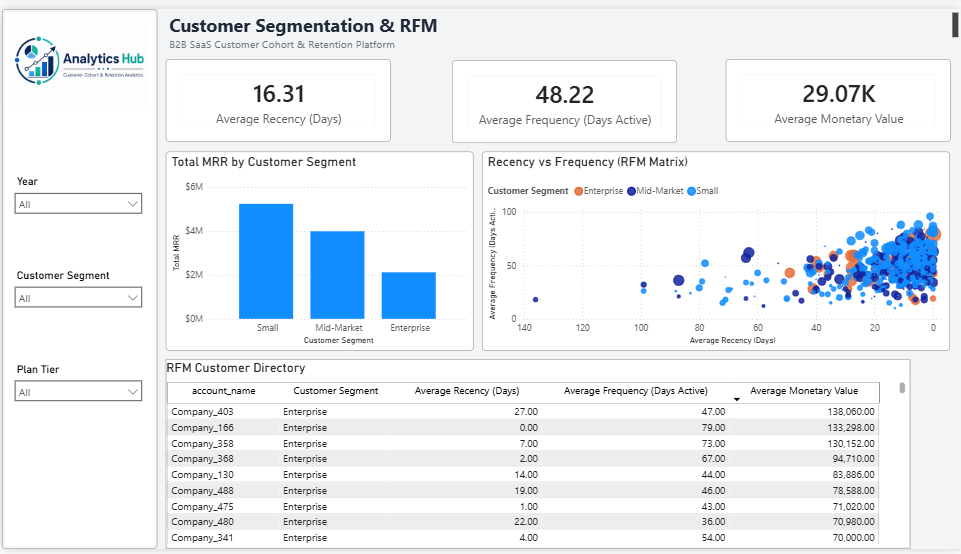

What the dashboard file says about the page in this screenshot:
{"tool":"powerbi","page":{"name":"06.Customer Segmentation & RFM","canvas":[1280,720],"ordinal":5},"visuals":[{"type":"shape","title":"Analytics Hub","box":[0,0,207.1,720],"z":0},{"type":"slicer","fields":{"Values":["Dim_Calendar.Year"]},"box":[7.1,217.1,190,80],"z":1000},{"type":"slicer","fields":{"Values":["Dim_Account.Customer Segment"]},"box":[7.1,342.1,190,80],"z":2000},{"type":"image","box":[2.9,10,200,125.7],"z":3000},{"type":"slicer","fields":{"Values":["Dim_Account.plan_tier"]},"box":[7.1,467.1,190,80],"z":4000},{"type":"textbox","box":[218.6,0,1061.4,57.1],"z":5000},{"type":"cardVisual","fields":{"Data":["Fact_FeatureUsage.Average Frequency (Days Active)"]},"box":[600,68.6,300,110],"z":6000},{"type":"cardVisual","fields":{"Data":["Fact_FeatureUsage.Average Recency (Days)"]},"box":[218.6,67.1,300,110],"z":7000},{"type":"cardVisual","fields":{"Data":["Fact_FeatureUsage.Average Monetary Value"]},"box":[964.3,67.1,300,110],"z":8000},{"type":"scatterChart","title":"Recency vs Frequency (RFM Matrix)","fields":{"Category":["Dim_Account.account_name"],"X":["Fact_FeatureUsage.Average Recency (Days)"],"Y":["Fact_FeatureUsage.Average Frequency (Days Active)"],"Size":["Fact_FeatureUsage.Average Monetary Value"],"Series":["Dim_Account.Customer Segment"]},"box":[640,190,624.3,265.7],"z":9000},{"type":"clusteredColumnChart","fields":{"Category":["Dim_Account.Customer Segment"],"Y":["Fact_Subscriptions.Total MRR"]},"box":[218.6,190,410,265.7],"z":10000},{"type":"tableEx","title":"RFM Customer Directory","fields":{"Values":["Dim_Account.account_name","Dim_Account.Customer Segment","Fact_FeatureUsage.Average Recency (Days)","Fact_FeatureUsage.Average Frequency (Days Active)","Fact_FeatureUsage.Average Monetary Value"]},"box":[218.6,467.1,992.9,252.9],"z":11000}]}

Visuals, with their boxes in screenshot pixels (x1, y1, x2, y2), scaled from the page's 1280x720 canvas onto the 961x554 screenshot:
"Analytics Hub" shape: region(0, 0, 155, 553)
slicer - Dim_Calendar.Year: region(5, 167, 148, 229)
slicer - Dim_Account.Customer Segment: region(5, 263, 148, 325)
image: region(2, 8, 152, 104)
slicer - Dim_Account.plan_tier: region(5, 359, 148, 421)
textbox: region(164, 0, 960, 44)
cardVisual - Fact_FeatureUsage.Average Frequency (Days Active): region(450, 53, 676, 137)
cardVisual - Fact_FeatureUsage.Average Recency (Days): region(164, 52, 389, 136)
cardVisual - Fact_FeatureUsage.Average Monetary Value: region(724, 52, 949, 136)
"Recency vs Frequency (RFM Matrix)" scatterChart: region(480, 146, 949, 351)
clusteredColumnChart - Dim_Account.Customer Segment x Fact_Subscriptions.Total MRR: region(164, 146, 472, 351)
"RFM Customer Directory" tableEx: region(164, 359, 910, 553)
